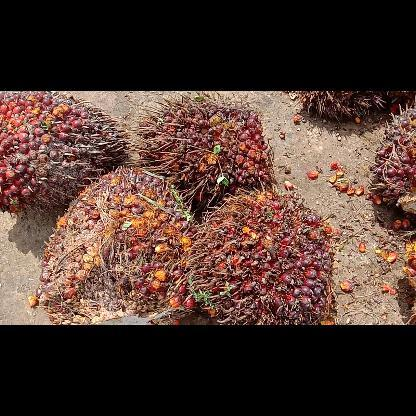TBS masak: (40, 166, 196, 324), (187, 182, 333, 324), (130, 90, 270, 206), (0, 91, 130, 215)
